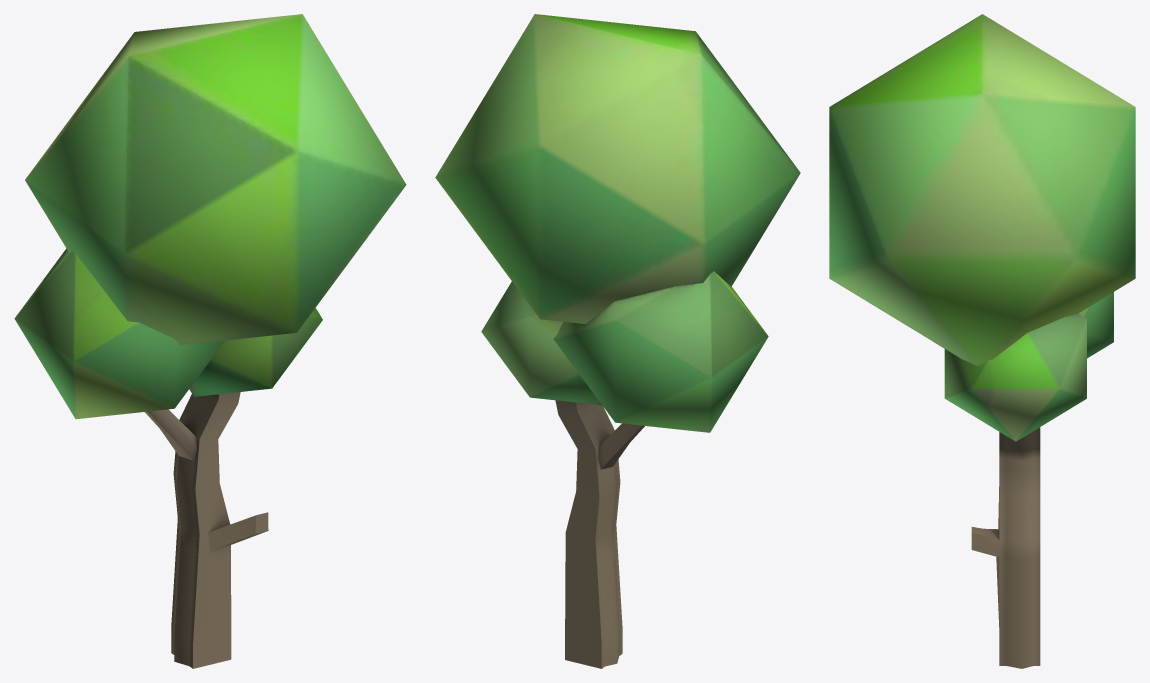
Rendered from feitong_tree_3.fbx.
3 views of the same model, side by side, from view 1: azimuth 30°, elevation 25°; view 2: azimuth 150°, elevation 25°; view 3: azimuth 270°, elevation 25° (orthographic). The views are drawn at different scales.
Visible parts, largest first — view 1: pSolid8; view 2: pSolid8; view 3: pSolid8.
Part boxes in pixels (x1,y1,x2,y2): pSolid8: (14,14,406,668); pSolid8: (435,14,800,668); pSolid8: (829,14,1135,668).
Bounding box in the file's own units: 7.67 × 16.07 × 7.43.
